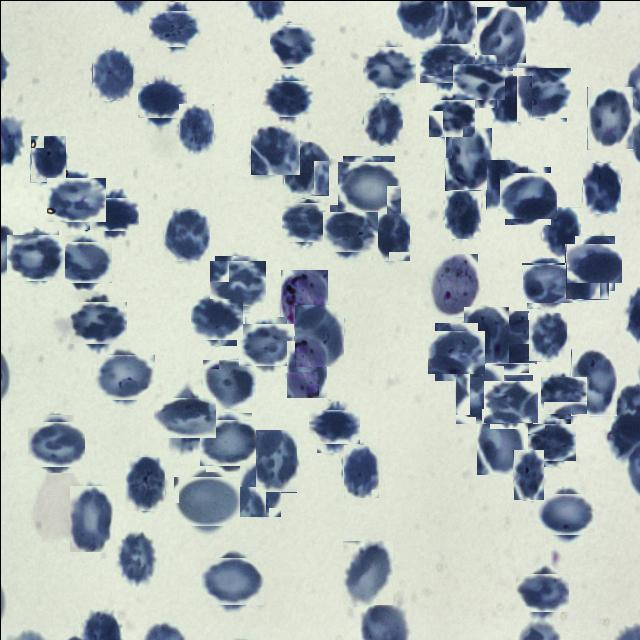red blood cell: (339, 158, 397, 216), (178, 471, 235, 529), (342, 540, 392, 604), (476, 6, 525, 70), (570, 348, 616, 415), (204, 553, 260, 608), (294, 304, 343, 366), (70, 485, 116, 551), (514, 64, 568, 119), (444, 127, 491, 190), (96, 350, 150, 404), (476, 412, 523, 474), (586, 86, 632, 149), (454, 365, 503, 424), (479, 314, 532, 368), (29, 417, 82, 469), (202, 415, 254, 468), (9, 230, 61, 282), (501, 169, 553, 221), (49, 173, 101, 225), (158, 391, 210, 442), (202, 358, 255, 408), (254, 429, 296, 492), (463, 306, 508, 362), (72, 297, 122, 347), (363, 44, 413, 94), (212, 258, 262, 308), (430, 326, 480, 376), (162, 208, 209, 261), (564, 243, 608, 299), (240, 319, 290, 368), (283, 140, 328, 194), (250, 125, 299, 174), (542, 488, 590, 538), (485, 159, 527, 216), (285, 340, 326, 398), (59, 238, 108, 286), (486, 377, 535, 425), (238, 462, 280, 517), (326, 208, 374, 255), (424, 38, 471, 86), (570, 239, 618, 286), (192, 295, 239, 342), (116, 530, 156, 585), (124, 456, 164, 510), (523, 259, 569, 305), (518, 568, 564, 614), (489, 75, 531, 125), (91, 49, 132, 100), (541, 206, 580, 257), (342, 443, 378, 498), (265, 76, 310, 120), (152, 5, 196, 50), (456, 58, 500, 103), (362, 97, 402, 146), (582, 162, 620, 213), (270, 23, 314, 67), (527, 312, 566, 361), (283, 200, 327, 243), (312, 404, 355, 448), (372, 210, 409, 261), (530, 421, 572, 464), (444, 188, 480, 238), (140, 80, 182, 122), (92, 192, 134, 234), (542, 374, 584, 416), (430, 97, 472, 139), (178, 103, 213, 152), (30, 135, 66, 182), (512, 449, 543, 500)
ring: (430, 253, 477, 316)
schizont: (280, 269, 327, 335)
